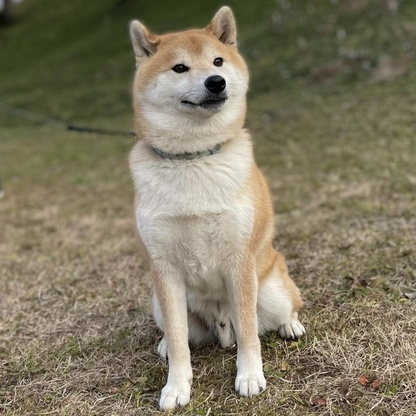shiba: (121, 3, 312, 412)
